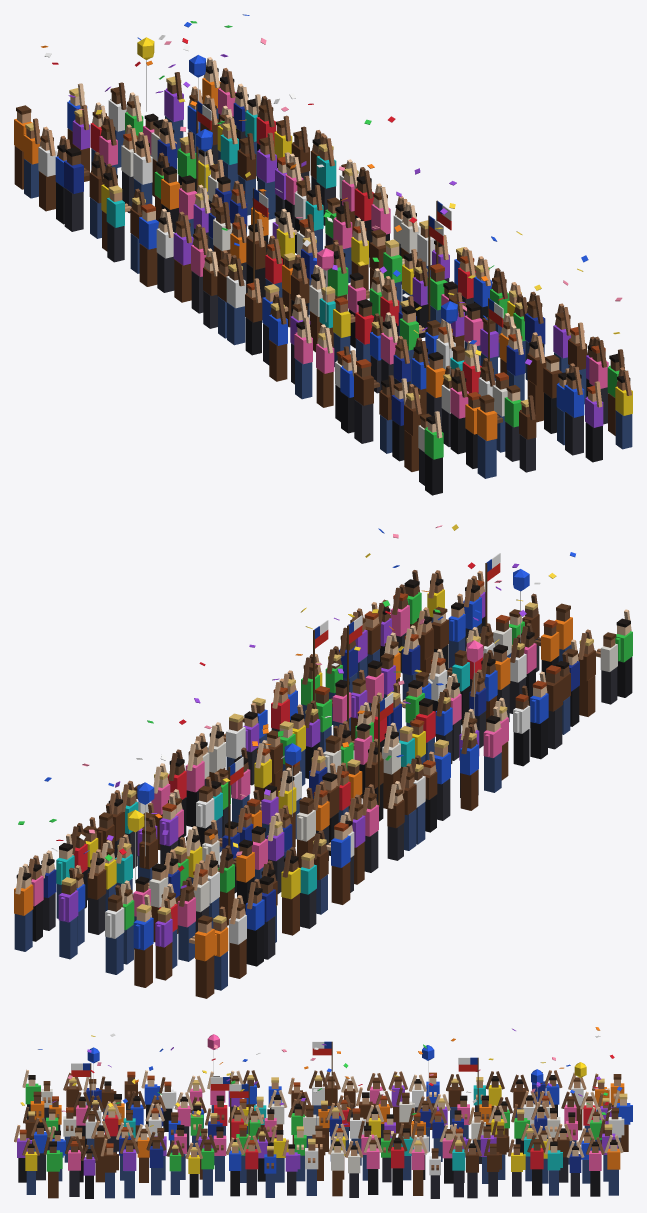
File: multitud_larga_5.obj
3 renders of one model, top to bottom at view 1: azimuth 30°, elevation 25°; view 2: azimuth 150°, elevation 25°; view 3: azimuth 270°, elevation 25°, orthographic. The views are drawn at different scales.
Parts seen in each view (by area): view 1: multitud_larga_5; view 2: multitud_larga_5; view 3: multitud_larga_5.
Boxes of the visible parts, bbox=[...] form: multitud_larga_5: bbox=[14, 14, 632, 495]; multitud_larga_5: bbox=[14, 524, 632, 998]; multitud_larga_5: bbox=[14, 1027, 632, 1198].
Bounding box in the file's own units: 5.29 × 3.65 × 18.35.
